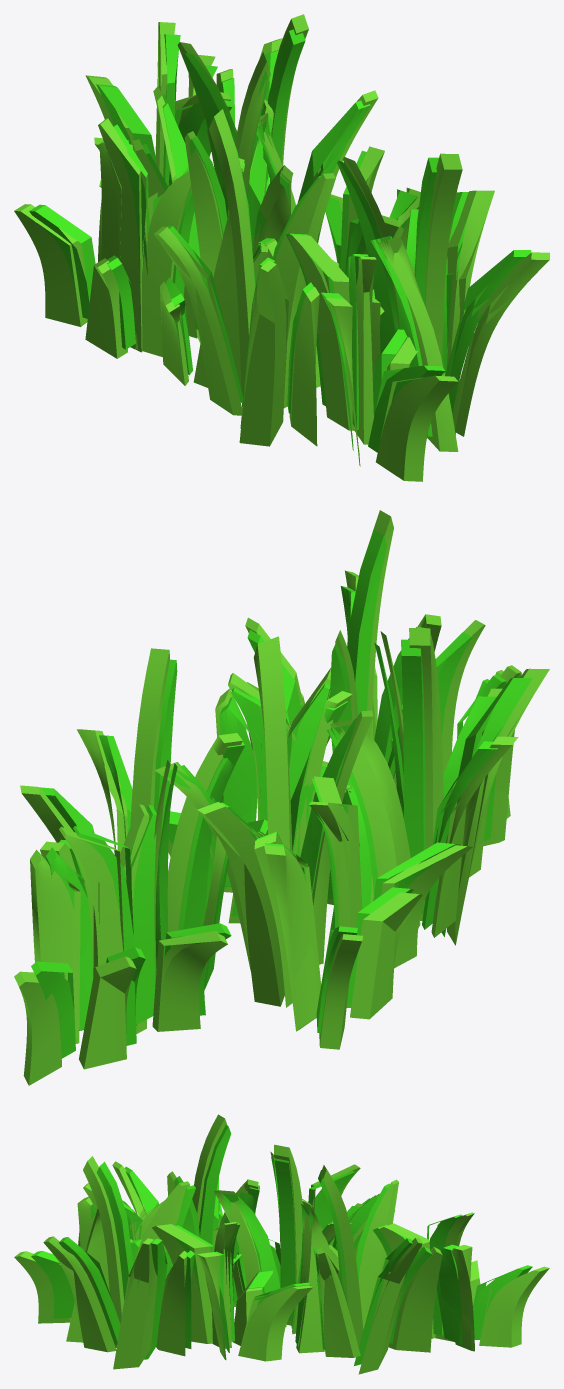
File: bushes.fbx
3 renders of one model, top to bottom at view 1: azimuth 30°, elevation 25°; view 2: azimuth 150°, elevation 25°; view 3: azimuth 270°, elevation 25°, orthographic. The views are drawn at different scales.
Visible parts, largest first — view 1: bush1, bush2; view 2: bush1, bush2; view 3: bush1, bush2.
Part boxes in pixels (x1,y1,x2,y2): bush1: (14,14,549,481); bush2: (29,29,531,452); bush1: (14,510,549,1085); bush2: (31,529,532,1058); bush1: (14,1114,549,1374); bush2: (31,1125,532,1365).
Bounding box in the file's own units: 128 × 121 × 289.
